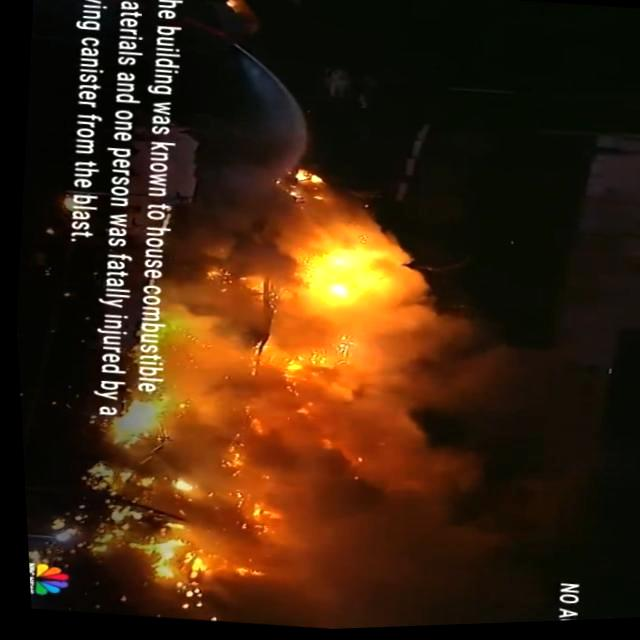fire: (260, 340, 388, 516), (150, 264, 276, 384), (131, 481, 253, 604), (295, 230, 397, 336), (92, 385, 196, 475), (185, 375, 267, 489)
